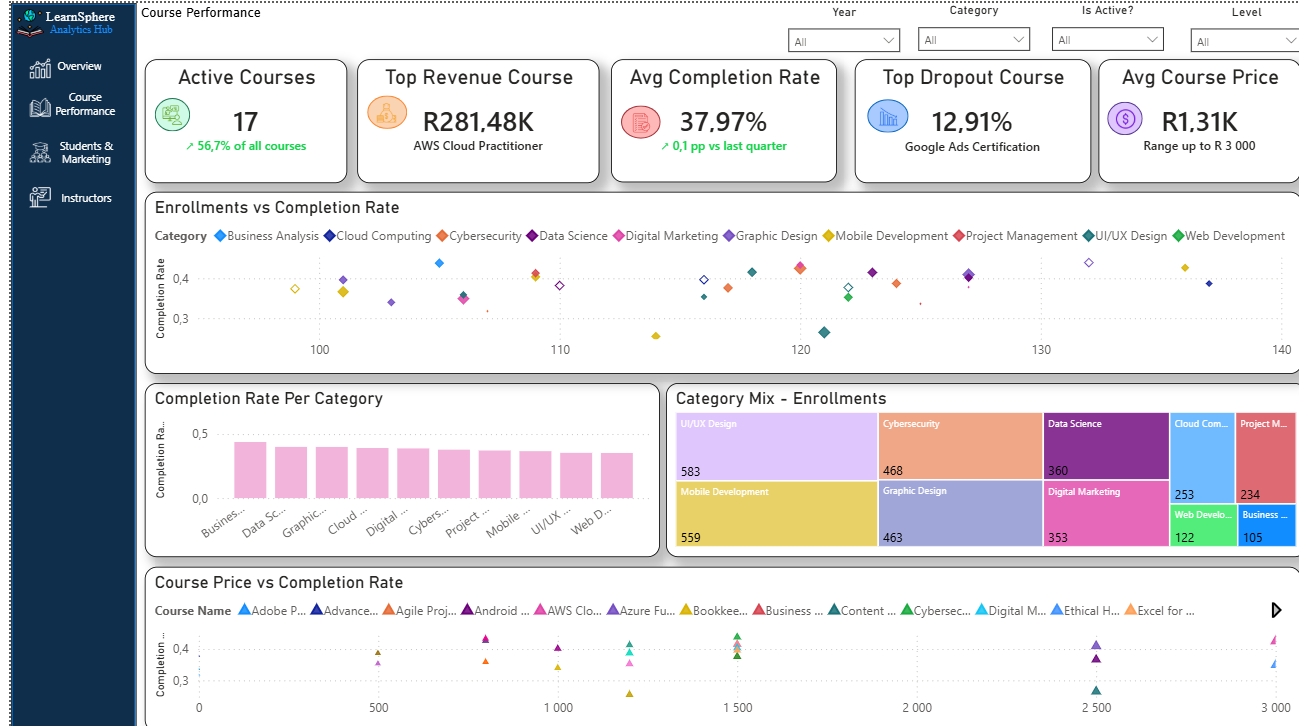

What the dashboard file says about the page in this screenshot:
{"tool":"powerbi","page":{"name":"Course Performance","canvas":[1280,720],"ordinal":1},"visuals":[{"type":"group","id":"g1","title":"Group 1","box":[0,0,124,720.8],"z":0},{"type":"shape","box":[0,0,124,720.8],"z":0,"group":"g1"},{"type":"cardVisual","title":"Active Courses","fields":{"Data":["Courses.Active Courses"]},"box":[132.2,55.6,200,122],"z":0,"group":"g2"},{"type":"cardVisual","title":"Top Revenue Course","fields":{"Data":["Courses.Top Revenue Course Revenue"]},"box":[342.2,55.6,239.4,122],"z":0,"group":"g3"},{"type":"cardVisual","title":"Avg Completion Rate","fields":{"Data":["Courses.Completion Rate"]},"box":[592.2,55.6,223.6,121.8],"z":0,"group":"g5"},{"type":"cardVisual","title":"Top Dropout Course","fields":{"Data":["Courses.Dropout Rate"]},"box":[833.3,55.6,233.3,122.3],"z":0,"group":"g7"},{"type":"textbox","title":"Course Performance","box":[124,0,142,20],"z":1000},{"type":"image","box":[3.6,6,30,28],"z":1000,"group":"g1"},{"type":"cardVisual","title":"Avg Course Price","fields":{"Data":["Courses.Average Course Price"]},"box":[1074.4,55,200,122.1],"z":1000,"group":"g10"},{"type":"slicer","title":"Year","fields":{"Values":["Date.Year"]},"box":[763,1,120,51],"z":2000},{"type":"textbox","title":"LearnSphere","box":[29.6,6.4,79.6,13.6],"z":2000,"group":"g1"},{"type":"shape","box":[1083.3,96.4,35,33],"z":2000,"group":"g15"},{"type":"slicer","title":"Category","fields":{"Values":["Courses.category"]},"box":[891,0,120,51],"z":3000},{"type":"textbox","title":"Analytics Hub","box":[32.8,20,73.2,13.6],"z":3000,"group":"g1"},{"type":"slicer","title":"Level","fields":{"Values":["Courses.level"]},"box":[1160,1,120,51],"z":4000},{"type":"actionButton","box":[42,50.8,70,23.2],"z":4000,"group":"g1"},{"type":"group","id":"g2","title":"Group 2","box":[132.2,55.6,200,122],"z":4000,"group":"g4"},{"type":"slicer","title":"Is Active?","fields":{"Values":["Courses.is_active"]},"box":[1023,0,120,51],"z":5000},{"type":"group","id":"g3","title":"Group 2","box":[342.2,55.6,240,122],"z":5000,"group":"g6"},{"type":"actionButton","box":[38,81.2,70,37.2],"z":5000,"group":"g1"},{"type":"group","id":"g4","title":"Group 4","box":[132.2,55.6,200,122],"z":6000},{"type":"group","id":"g5","title":"Group 2","box":[592.2,55.6,224.4,122],"z":6000,"group":"g8"},{"type":"actionButton","box":[39.6,127.6,70,40],"z":6000,"group":"g1"},{"type":"group","id":"g6","title":"Group 7","box":[342.2,55.6,240,122],"z":7000},{"type":"group","id":"g7","title":"Group 2","box":[833.3,55.6,233.3,122.3],"z":7000,"group":"g9"},{"type":"actionButton","box":[40,176,70,31.6],"z":7000,"group":"g1"},{"type":"group","id":"g8","title":"Group 8","box":[592.2,55.6,224.4,122],"z":8000},{"type":"image","box":[18.8,53.6,20.4,23.2],"z":9000,"group":"g1"},{"type":"group","id":"g9","title":"Group 11","box":[833.3,55.6,233.3,122],"z":9000},{"type":"group","id":"g10","title":"Group 12","box":[1074.4,55,200,122.2],"z":10000},{"type":"image","box":[18,180.4,20.4,23.2],"z":10000,"group":"g1"},{"type":"image","box":[18.8,91.6,20.4,23.2],"z":11000,"group":"g1"},{"type":"columnChart","title":"Completion Rate Per Category","fields":{"Category":["Courses.category"],"Y":["Courses.Completion Rate"]},"box":[132.1,375.8,509.2,172.1],"z":11000},{"type":"shape","box":[142.1,93.6,35,33],"z":12000,"group":"g11"},{"type":"image","box":[18,136,20.4,23.2],"z":12000,"group":"g1"},{"type":"treemap","title":"Category Mix - Enrollments","fields":{"Group":["Courses.category"],"Values":["Courses.Total Enrollments"]},"box":[647.1,375.8,632.9,172.1],"z":12000},{"type":"shape","box":[845.5,95.4,40.8,33.1],"z":13000,"group":"g14"},{"type":"scatterChart","title":"Course Price vs Completion Rate","fields":{"X":["Sum(Courses.price_zar)"],"Y":["Courses.Completion Rate"],"Category":["Courses.course_title"],"Size":["Courses.Total Revenue"],"Series":["Courses.course_title"]},"box":[132.3,556.9,1142.3,163.1],"z":13000},{"type":"shape","box":[601.9,101.6,39.2,32.7],"z":14000,"group":"g13"},{"type":"scatterChart","title":"Enrollments vs Completion Rate","fields":{"Category":["Courses.course_title"],"X":["Courses.Total Enrollments"],"Y":["Courses.Completion Rate"],"Size":["Courses.Total Revenue"],"Series":["Courses.category"]},"box":[131.8,186.5,1142.9,180],"z":14000},{"type":"shape","box":[352.3,91.6,39.4,33],"z":15000,"group":"g12"},{"type":"image","box":[852.9,102.4,27.2,18.9],"z":16000,"group":"g14"},{"type":"image","box":[1089.1,103.4,23.5,19],"z":17000,"group":"g15"},{"type":"image","box":[148,100.9,22.8,18.9],"z":18000,"group":"g11"},{"type":"image","box":[358.5,98.6,25.9,19],"z":19000,"group":"g12"},{"type":"image","box":[609.3,108.5,25.7,19.2],"z":20000,"group":"g13"},{"type":"group","id":"g11","title":"Group 3","box":[142.1,93.6,35,32.8],"z":20001,"group":"g4"},{"type":"group","id":"g12","title":"Group 5","box":[352.3,91.6,39.4,33],"z":20003,"group":"g6"},{"type":"group","id":"g13","title":"Group 6","box":[601.9,101.6,39.2,32.7],"z":20004,"group":"g8"},{"type":"group","id":"g14","title":"Group 9","box":[845.5,95.4,40.8,32.9],"z":20007,"group":"g9"},{"type":"group","id":"g15","title":"Group 10","box":[1083.3,96.4,35,32.8],"z":20008,"group":"g10"}]}

Visuals, with their boxes on the page's 1280x720 design canvas (x1, y1, x2, y2). These are canvas units, not pixel positions in the 1299x726 screenshot, which may show the page scaled, cropped or inside an application window:
"Group 1" group: pyautogui.locateOnScreen(0, 0, 124, 721)
shape: pyautogui.locateOnScreen(0, 0, 124, 721)
"Active Courses" cardVisual: pyautogui.locateOnScreen(132, 56, 332, 178)
"Top Revenue Course" cardVisual: pyautogui.locateOnScreen(342, 56, 582, 178)
"Avg Completion Rate" cardVisual: pyautogui.locateOnScreen(592, 56, 816, 177)
"Top Dropout Course" cardVisual: pyautogui.locateOnScreen(833, 56, 1067, 178)
"Course Performance" textbox: pyautogui.locateOnScreen(124, 0, 266, 20)
image: pyautogui.locateOnScreen(4, 6, 34, 34)
"Avg Course Price" cardVisual: pyautogui.locateOnScreen(1074, 55, 1274, 177)
"Year" slicer: pyautogui.locateOnScreen(763, 1, 883, 52)
"LearnSphere" textbox: pyautogui.locateOnScreen(30, 6, 109, 20)
shape: pyautogui.locateOnScreen(1083, 96, 1118, 129)
"Category" slicer: pyautogui.locateOnScreen(891, 0, 1011, 51)
"Analytics Hub" textbox: pyautogui.locateOnScreen(33, 20, 106, 34)
"Level" slicer: pyautogui.locateOnScreen(1160, 1, 1280, 52)
actionButton: pyautogui.locateOnScreen(42, 51, 112, 74)
"Group 2" group: pyautogui.locateOnScreen(132, 56, 332, 178)
"Is Active?" slicer: pyautogui.locateOnScreen(1023, 0, 1143, 51)
"Group 2" group: pyautogui.locateOnScreen(342, 56, 582, 178)
actionButton: pyautogui.locateOnScreen(38, 81, 108, 118)
"Group 4" group: pyautogui.locateOnScreen(132, 56, 332, 178)
"Group 2" group: pyautogui.locateOnScreen(592, 56, 817, 178)
actionButton: pyautogui.locateOnScreen(40, 128, 110, 168)
"Group 7" group: pyautogui.locateOnScreen(342, 56, 582, 178)
"Group 2" group: pyautogui.locateOnScreen(833, 56, 1067, 178)
actionButton: pyautogui.locateOnScreen(40, 176, 110, 208)
"Group 8" group: pyautogui.locateOnScreen(592, 56, 817, 178)
image: pyautogui.locateOnScreen(19, 54, 39, 77)
"Group 11" group: pyautogui.locateOnScreen(833, 56, 1067, 178)
"Group 12" group: pyautogui.locateOnScreen(1074, 55, 1274, 177)
image: pyautogui.locateOnScreen(18, 180, 38, 204)
image: pyautogui.locateOnScreen(19, 92, 39, 115)
"Completion Rate Per Category" columnChart: pyautogui.locateOnScreen(132, 376, 641, 548)
shape: pyautogui.locateOnScreen(142, 94, 177, 127)
image: pyautogui.locateOnScreen(18, 136, 38, 159)
"Category Mix - Enrollments" treemap: pyautogui.locateOnScreen(647, 376, 1280, 548)
shape: pyautogui.locateOnScreen(846, 95, 886, 128)
"Course Price vs Completion Rate" scatterChart: pyautogui.locateOnScreen(132, 557, 1275, 720)
shape: pyautogui.locateOnScreen(602, 102, 641, 134)
"Enrollments vs Completion Rate" scatterChart: pyautogui.locateOnScreen(132, 186, 1275, 366)
shape: pyautogui.locateOnScreen(352, 92, 392, 125)
image: pyautogui.locateOnScreen(853, 102, 880, 121)
image: pyautogui.locateOnScreen(1089, 103, 1113, 122)
image: pyautogui.locateOnScreen(148, 101, 171, 120)
image: pyautogui.locateOnScreen(358, 99, 384, 118)
image: pyautogui.locateOnScreen(609, 108, 635, 128)
"Group 3" group: pyautogui.locateOnScreen(142, 94, 177, 126)
"Group 5" group: pyautogui.locateOnScreen(352, 92, 392, 125)
"Group 6" group: pyautogui.locateOnScreen(602, 102, 641, 134)
"Group 9" group: pyautogui.locateOnScreen(846, 95, 886, 128)
"Group 10" group: pyautogui.locateOnScreen(1083, 96, 1118, 129)
